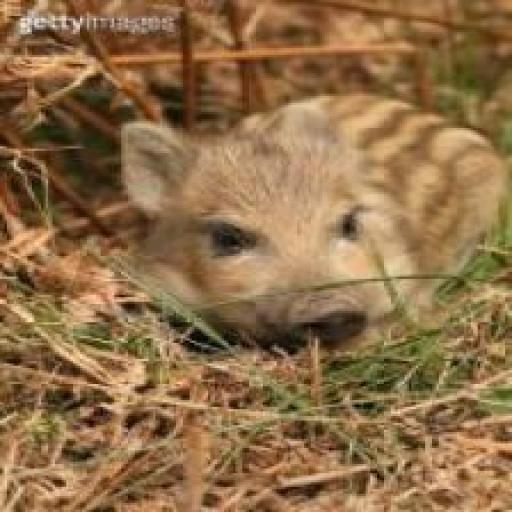Pig: (80, 80, 512, 379)
